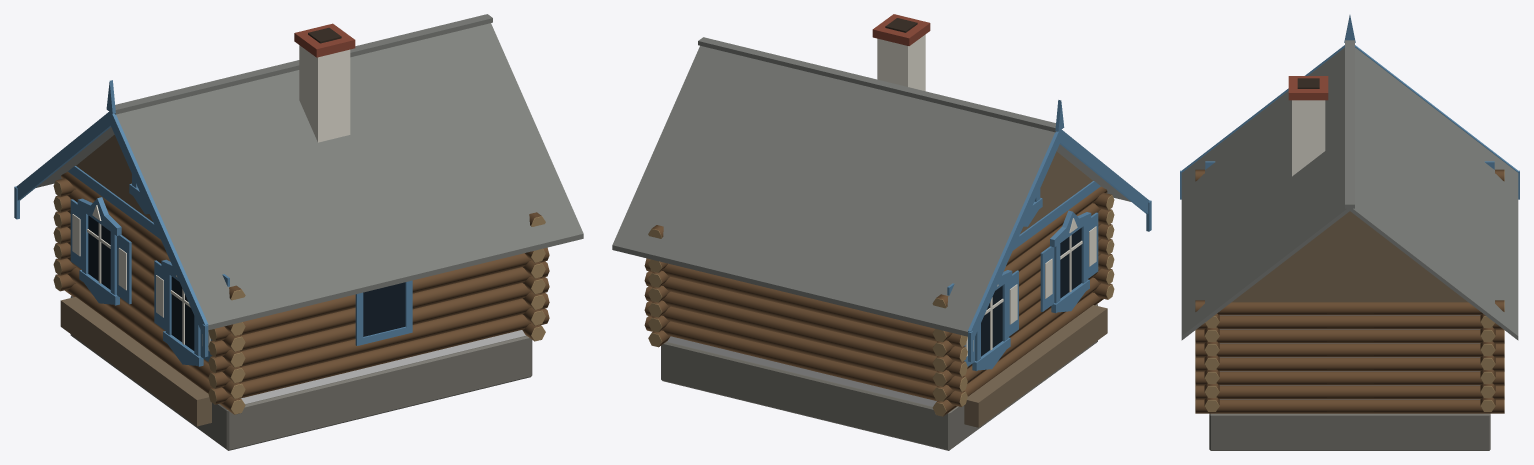
File: izba-srub-3.glb
The picture shows the model from 3 angles, left to right: view 1: azimuth 30°, elevation 25°; view 2: azimuth 150°, elevation 25°; view 3: azimuth 270°, elevation 25°; orthographic projection. The views are drawn at different scales.
Parts seen in each view (by area): view 1: 05_paint2, 02_paint1, 00_#77756e, 06_paint0, 04_#7a6a56, 08_#e6e2d6, 07_#1c2630, 03_#a08660, solid, 09_#8a4a3a; view 2: 05_paint2, 02_paint1, 00_#77756e, 06_paint0, 04_#7a6a56, 08_#e6e2d6, 03_#a08660, 07_#1c2630, solid, 09_#8a4a3a; view 3: 05_paint2, 02_paint1, 04_#7a6a56, 00_#77756e, 03_#a08660, 08_#e6e2d6, solid, 06_paint0, 09_#8a4a3a.
Part boxes in pixels (<box>): 05_paint2: <box>36,14,583,330</box>; 02_paint1: <box>56,171,549,414</box>; 00_#77756e: <box>70,296,532,450</box>; 06_paint0: <box>14,80,412,366</box>; 04_#7a6a56: <box>60,135,211,426</box>; 08_#e6e2d6: <box>72,45,350,351</box>; 07_#1c2630: <box>88,215,405,350</box>; 03_#a08660: <box>53,180,549,414</box>; solid: <box>241,330,525,403</box>; 09_#8a4a3a: <box>294,23,355,57</box>; 05_paint2: <box>612,37,1130,336</box>; 02_paint1: <box>644,186,1111,416</box>; 00_#77756e: <box>661,304,1097,450</box>; 06_paint0: <box>947,100,1151,371</box>; 04_#7a6a56: <box>964,151,1107,427</box>; 08_#e6e2d6: <box>877,34,1096,356</box>; 03_#a08660: <box>644,195,1114,416</box>; 07_#1c2630: <box>981,228,1081,356</box>; solid: <box>667,336,936,406</box>; 09_#8a4a3a: <box>872,14,930,45</box>; 05_paint2: <box>1181,40,1518,340</box>; 02_paint1: <box>1195,169,1504,413</box>; 04_#7a6a56: <box>1232,211,1467,302</box>; 00_#77756e: <box>1209,413,1490,450</box>; 03_#a08660: <box>1195,170,1504,413</box>; 08_#e6e2d6: <box>1292,100,1325,176</box>; solid: <box>1220,315,1479,399</box>; 06_paint0: <box>1180,15,1519,199</box>; 09_#8a4a3a: <box>1288,76,1328,100</box>.
Size of the model in its own units: 7.1 by 6.05 by 6.16.
